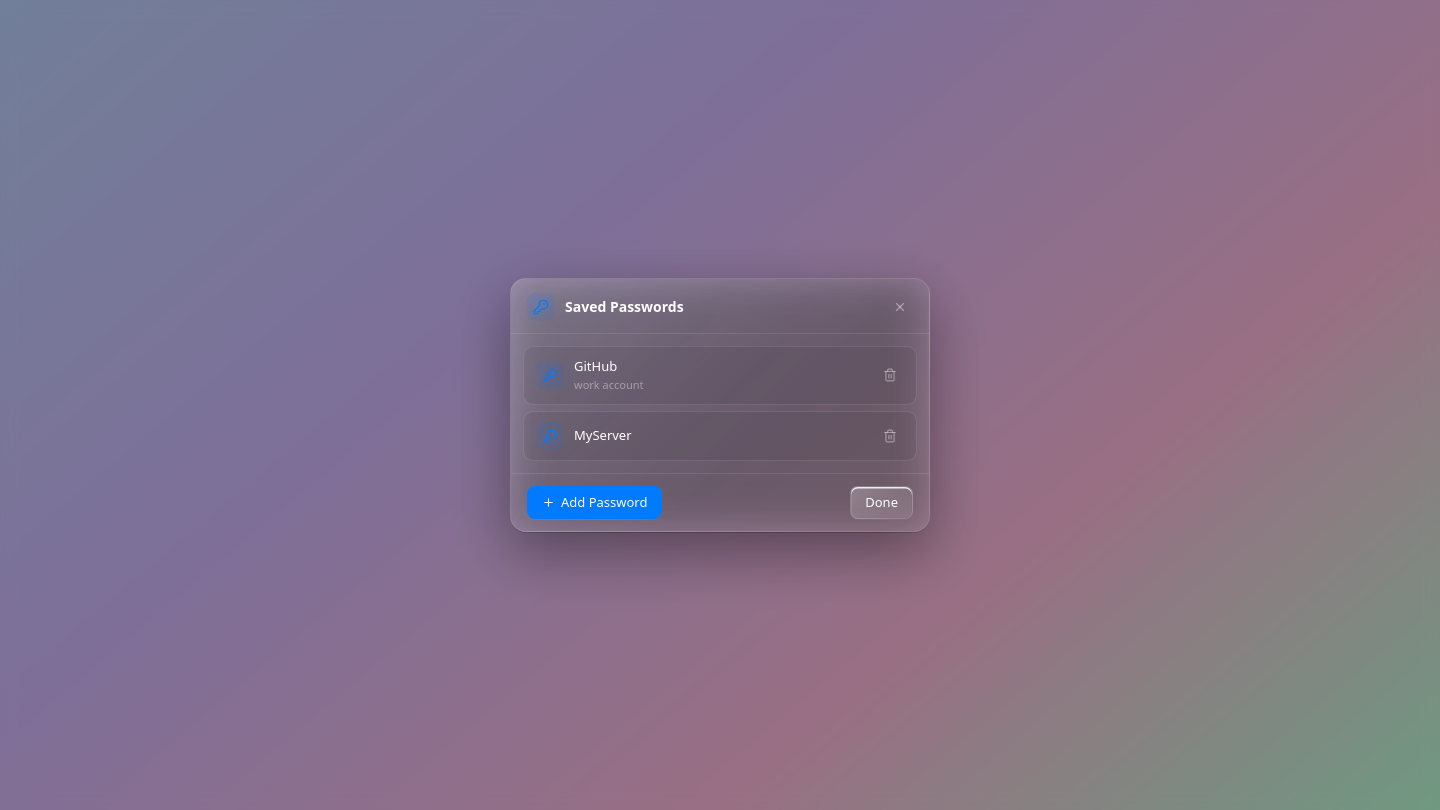
PasswordManager › cancels delete when No is clicked
Click the button titled "Delete" in the row of "work account". click: click(890, 375)
box: [876,361,904,389]
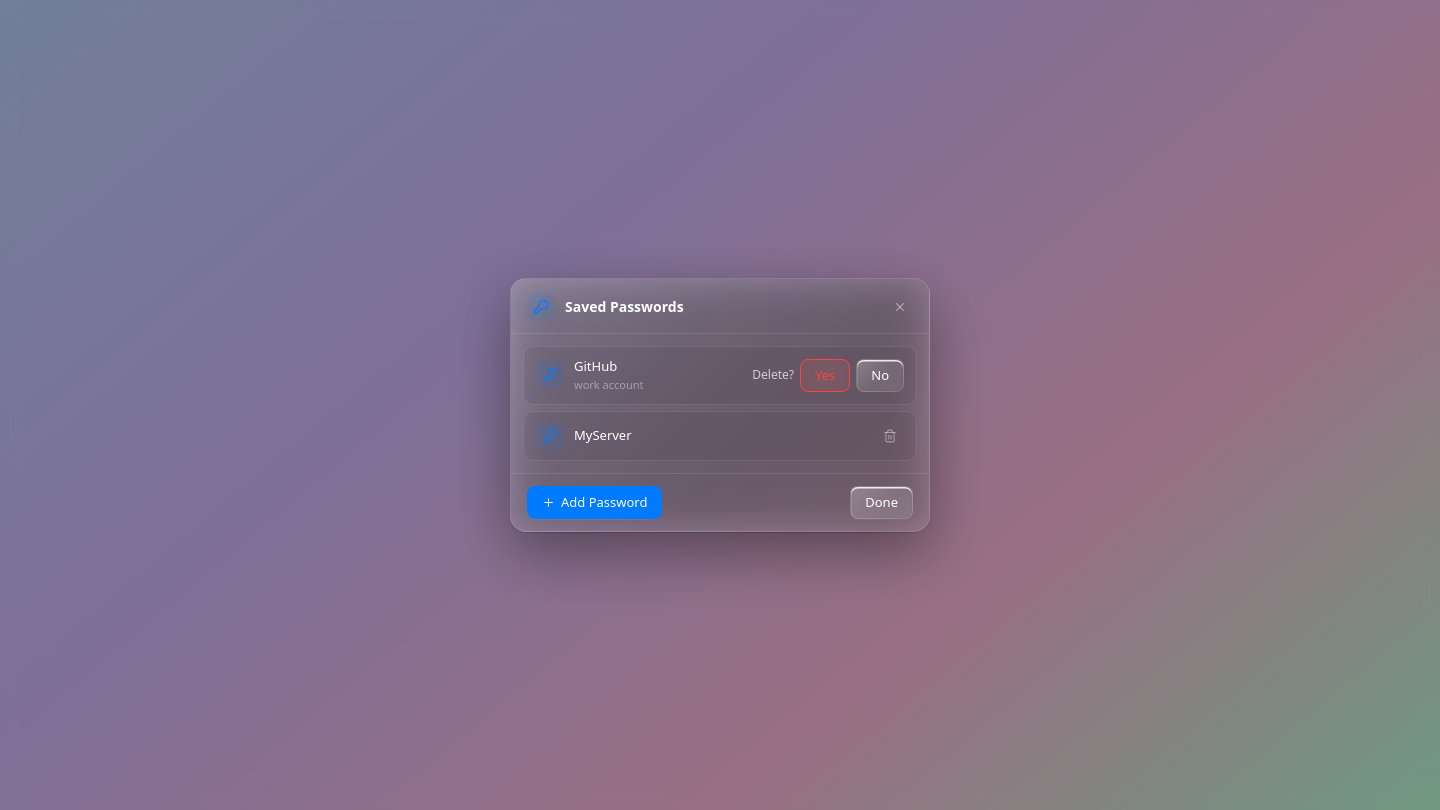
Click the button "No". click: click(880, 375)
box: [856,358,904,392]
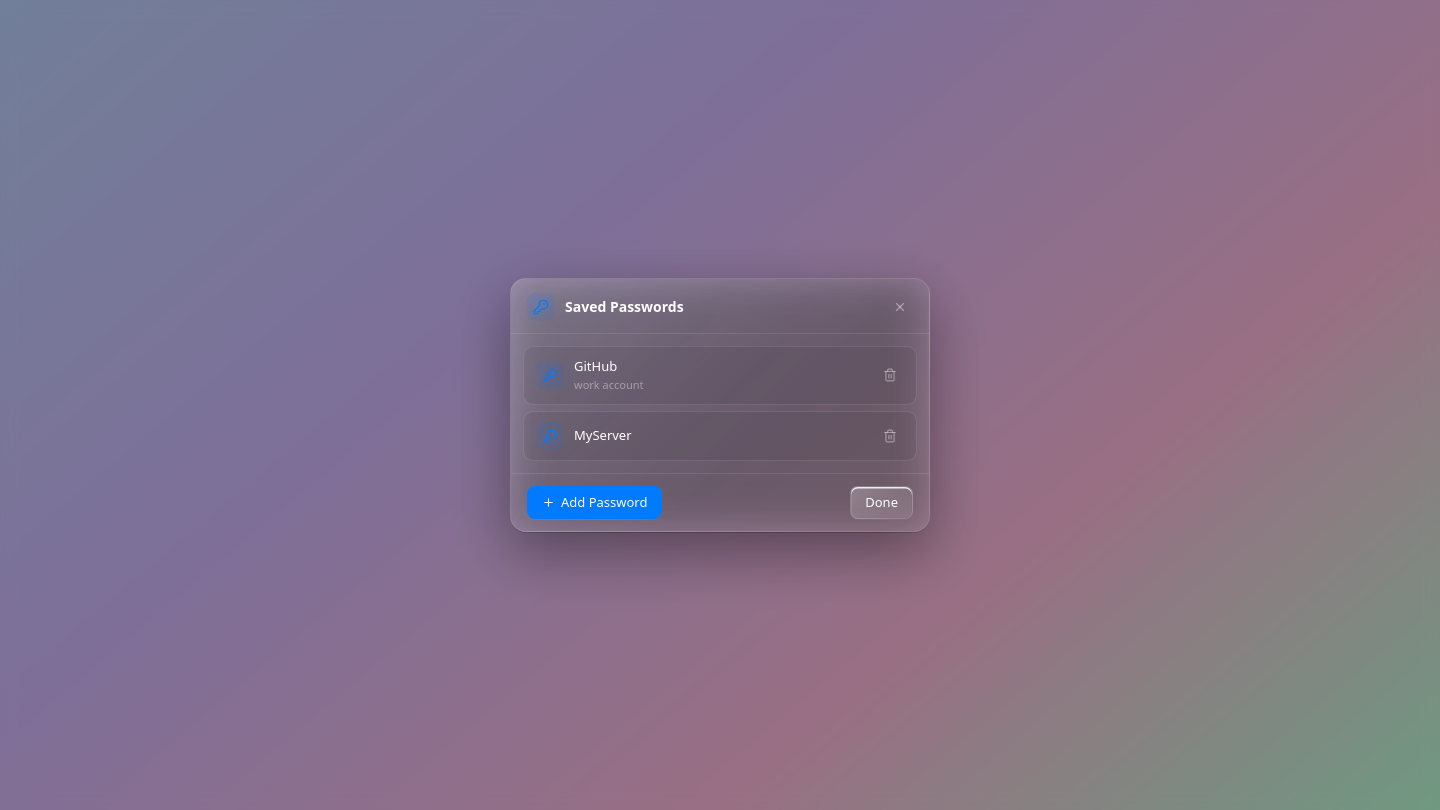
Expected: the text "Delete?" is gone
